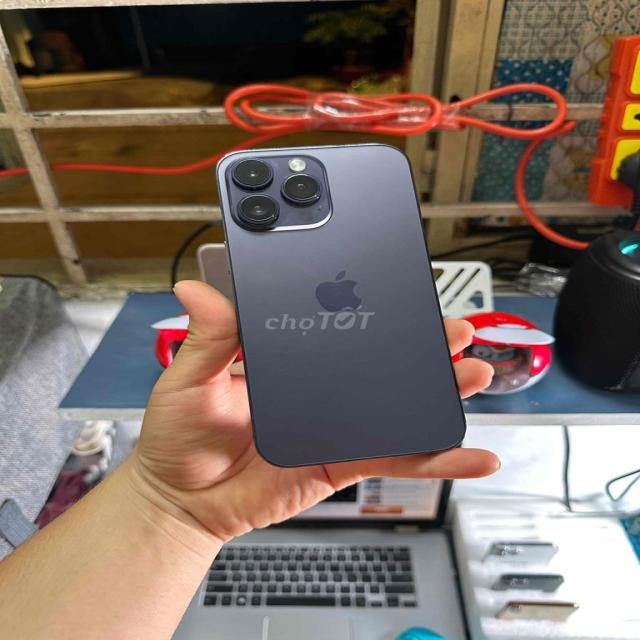gen_14: (211, 136, 477, 470)
